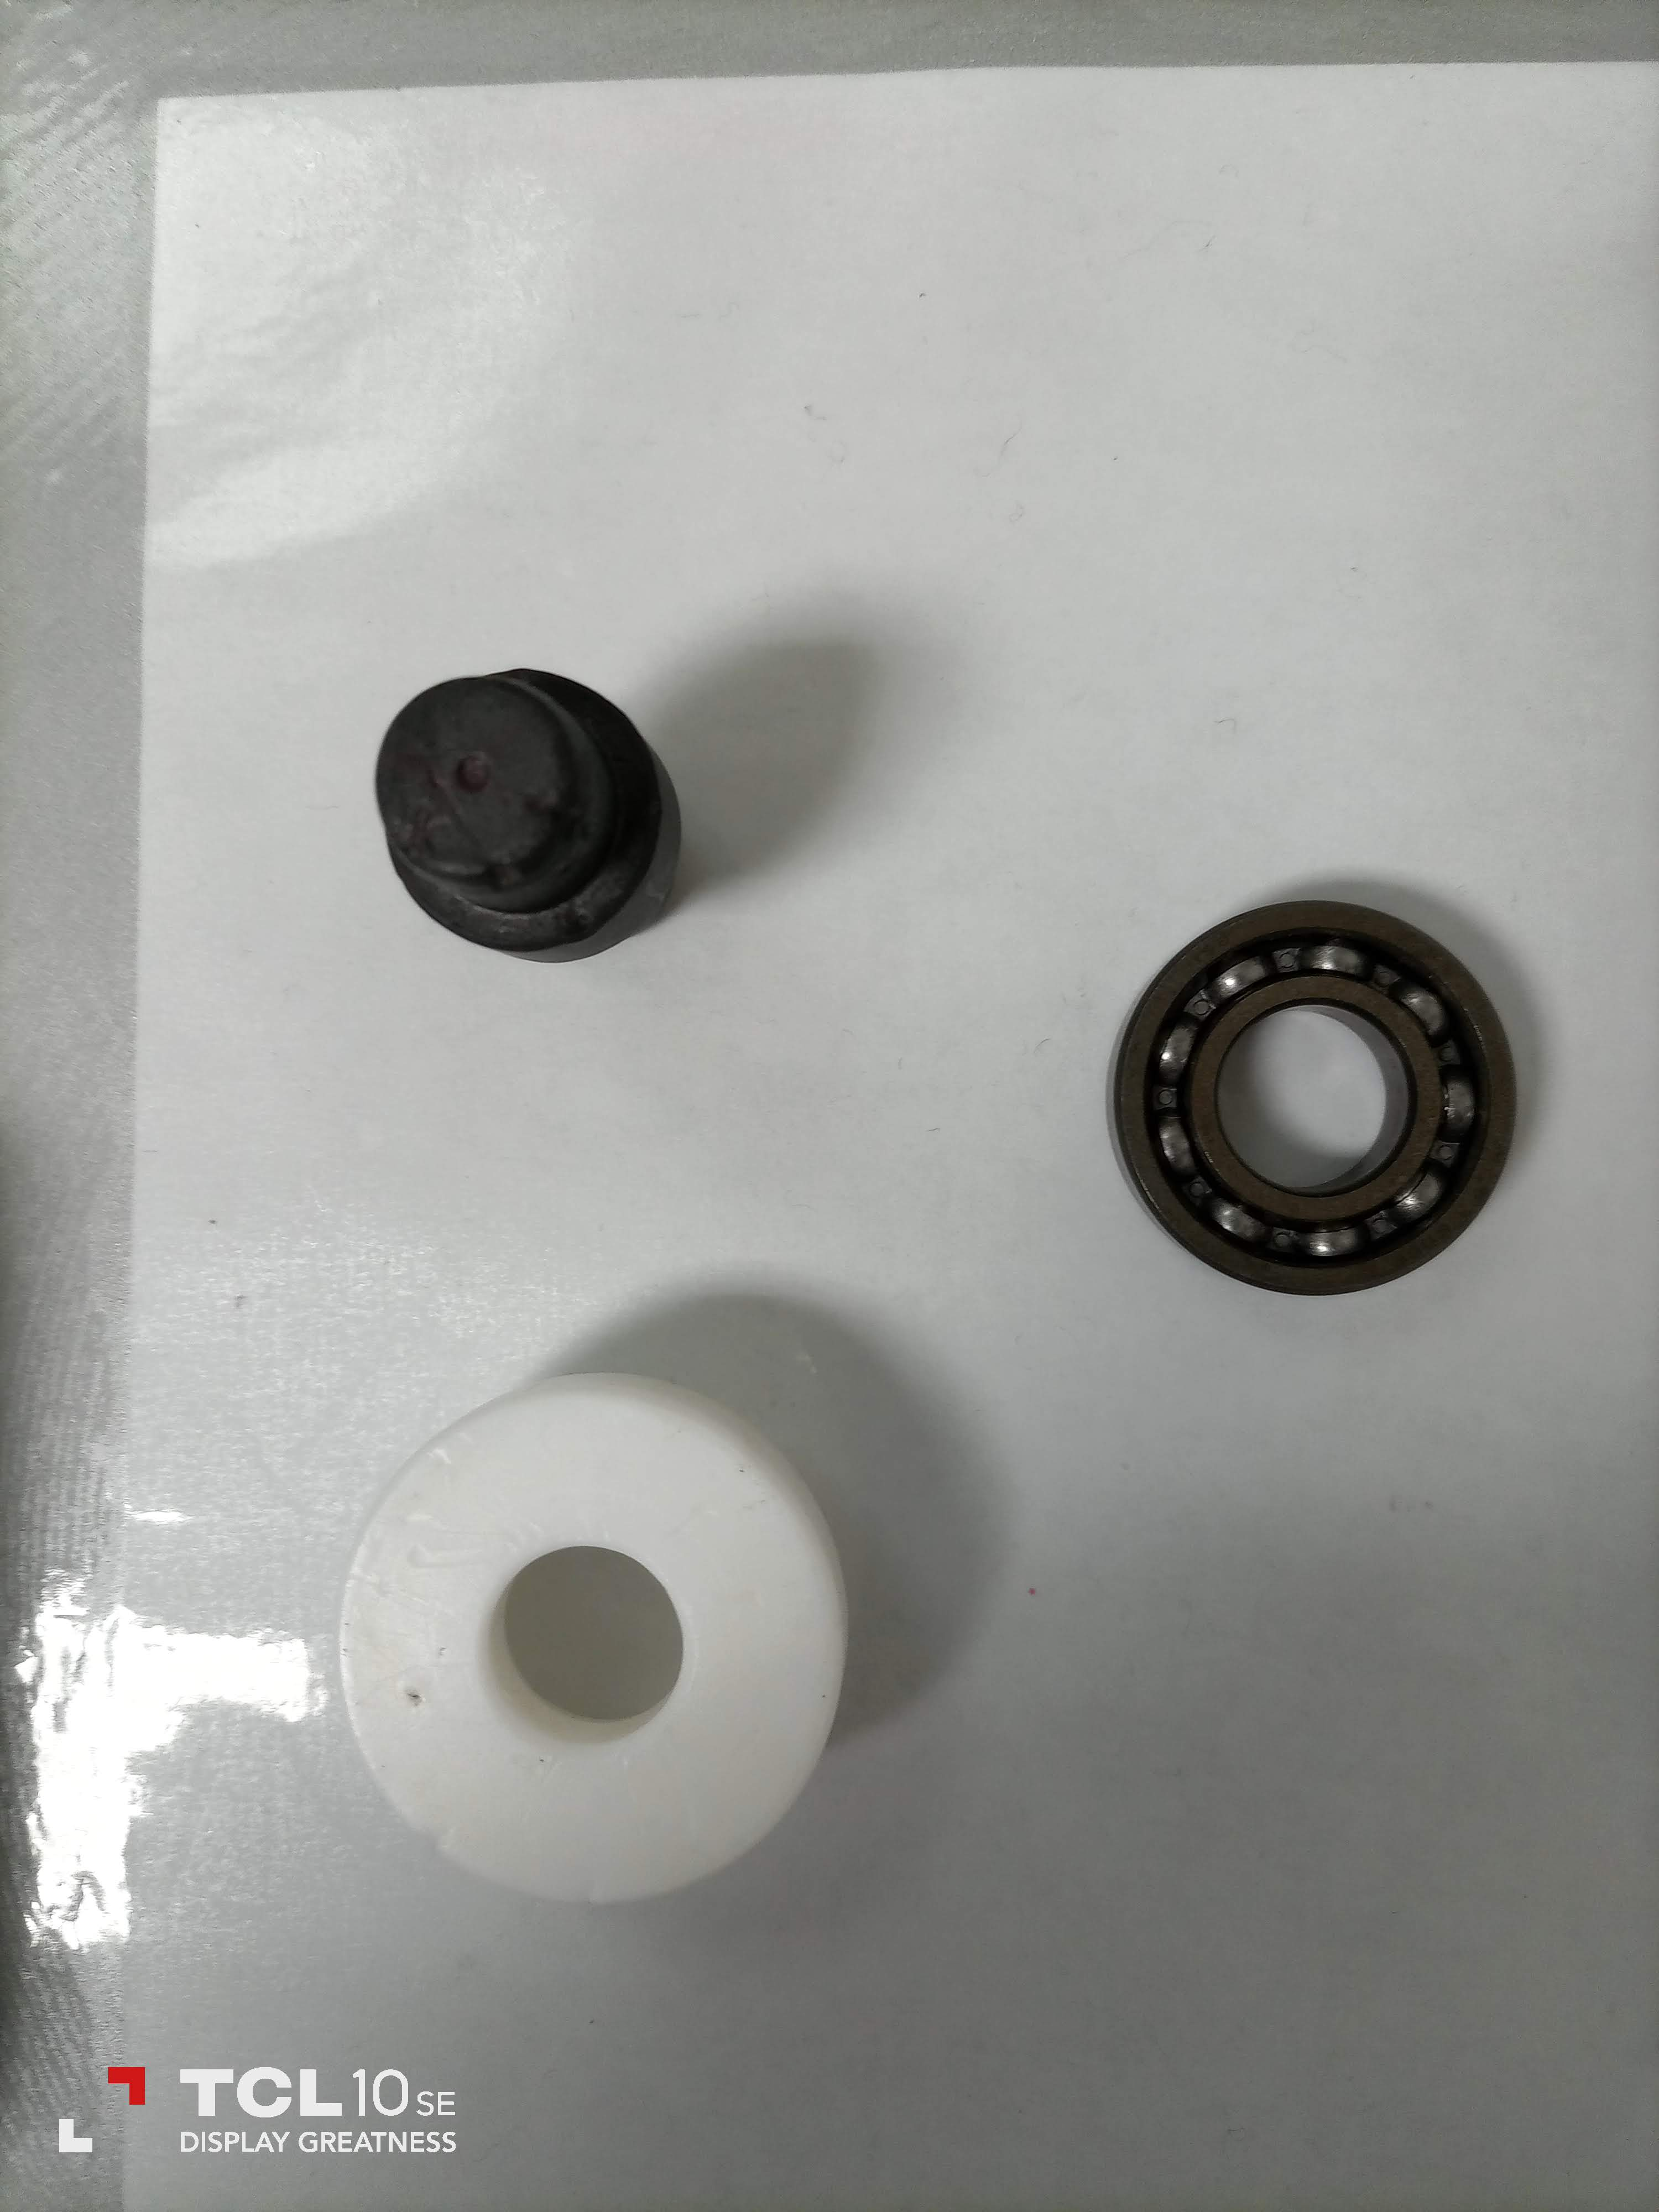Ardatza: (376, 667, 711, 944)
Roda: (1114, 888, 1560, 1338)
Tapa: (331, 1374, 833, 1883)
